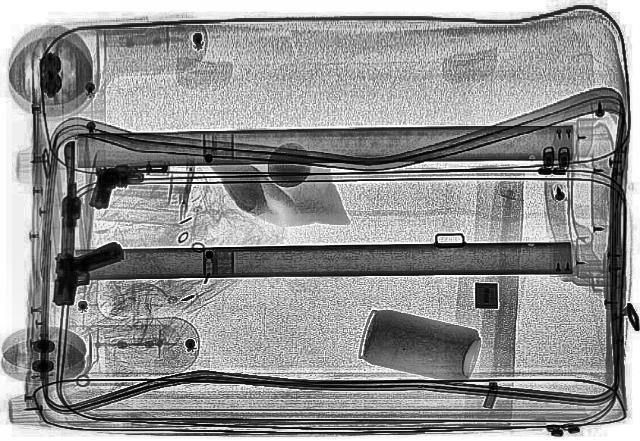Gun: (19, 234, 149, 310), (83, 161, 175, 209), (55, 140, 81, 262)
